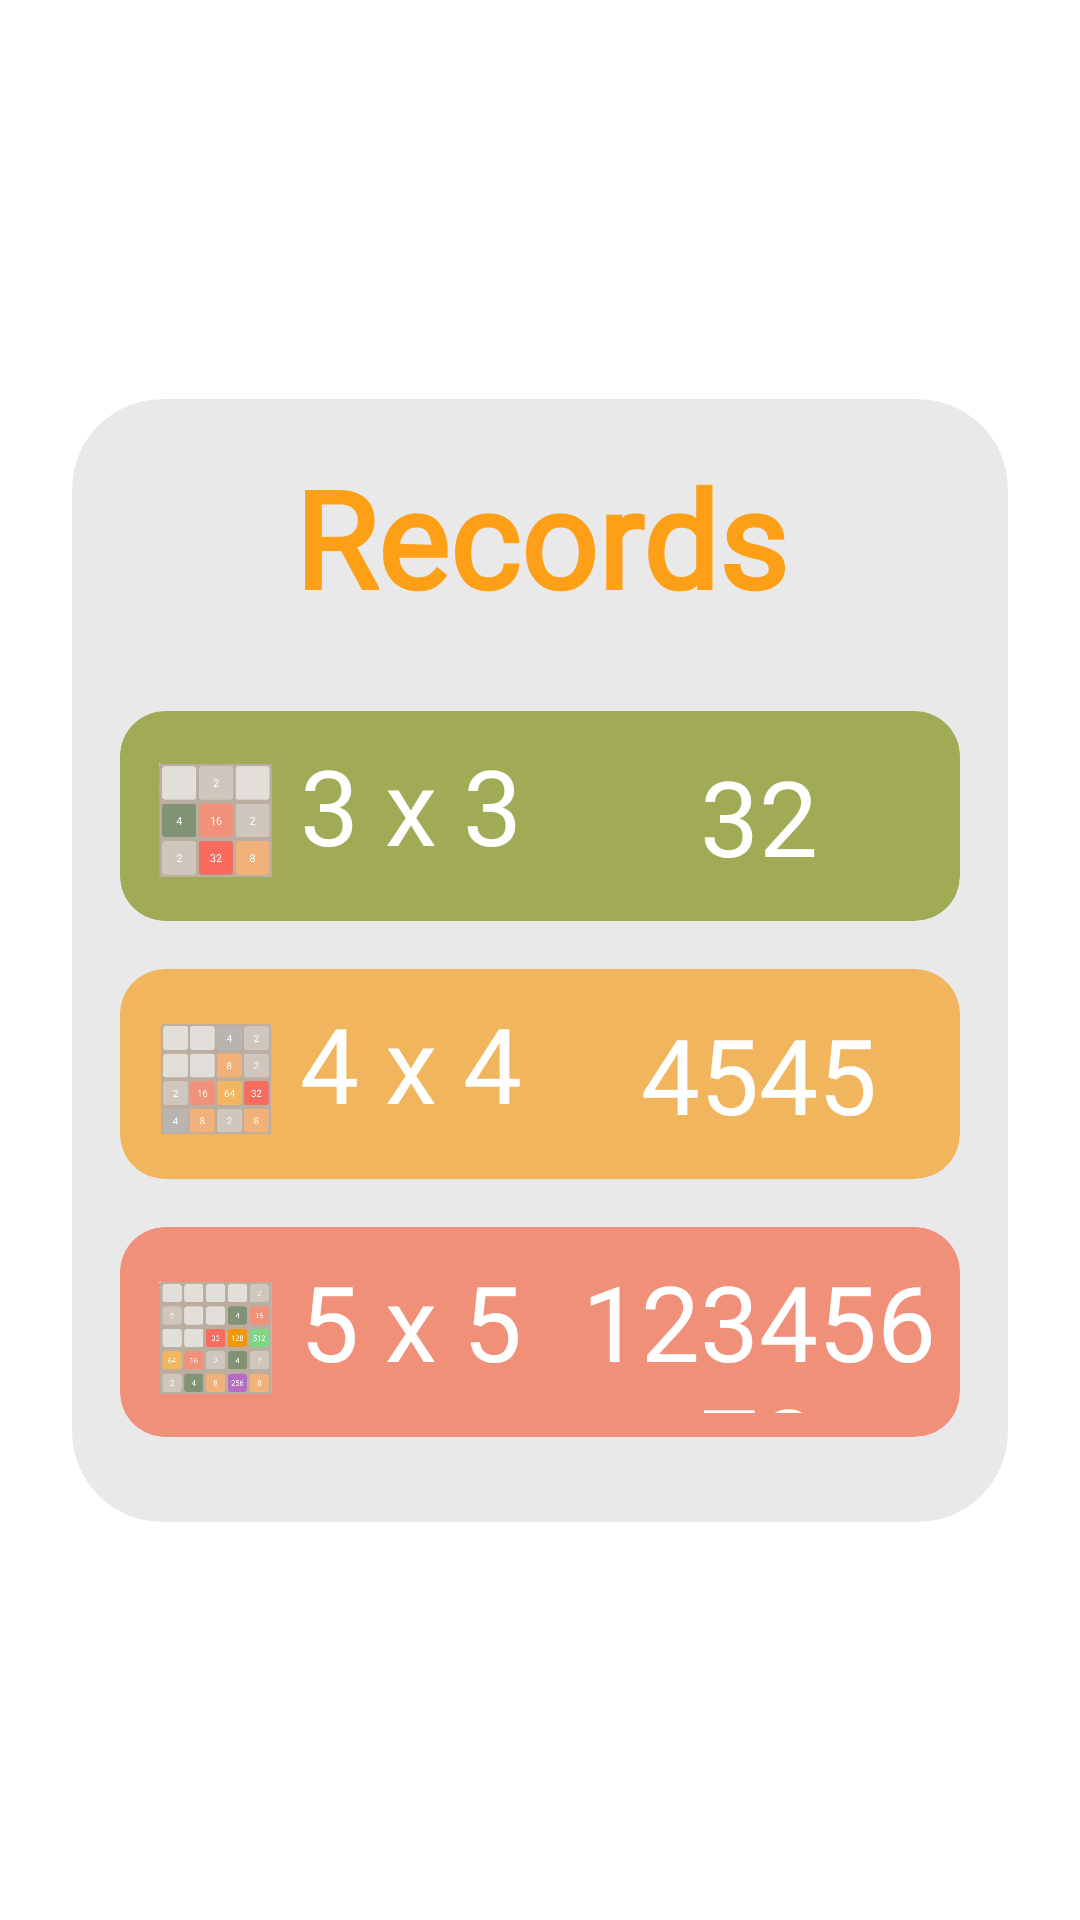

Named icons in this screenshot (1080×1920) and their bounding boxes, (x1, y1, x2, y2):
level: (159, 763, 272, 877), (159, 1281, 272, 1394)
